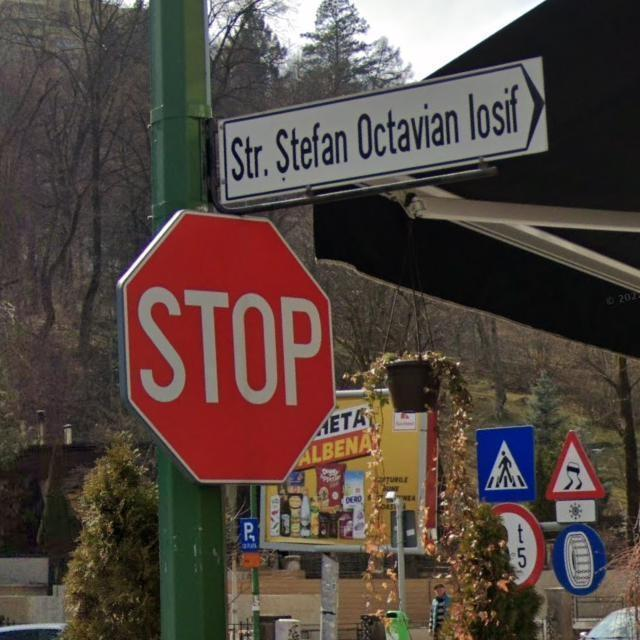info_crosswalk: (475, 423, 539, 506)
prio_stop: (118, 210, 338, 484)
